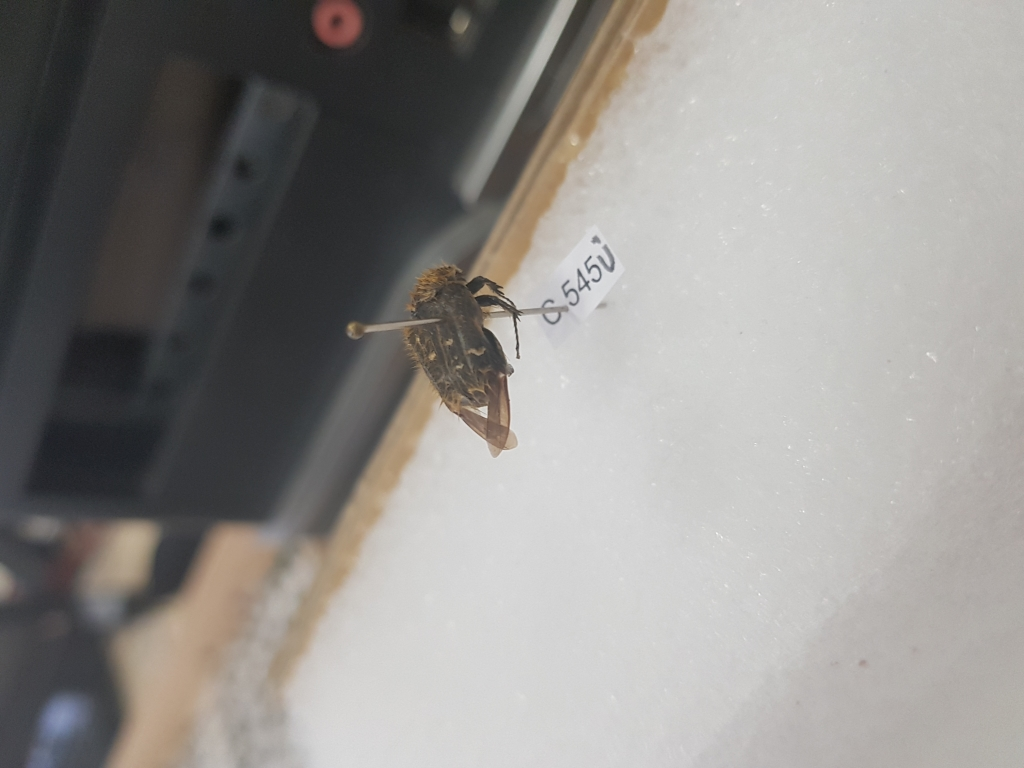Tropinota_hirta: (402, 245, 528, 461)
